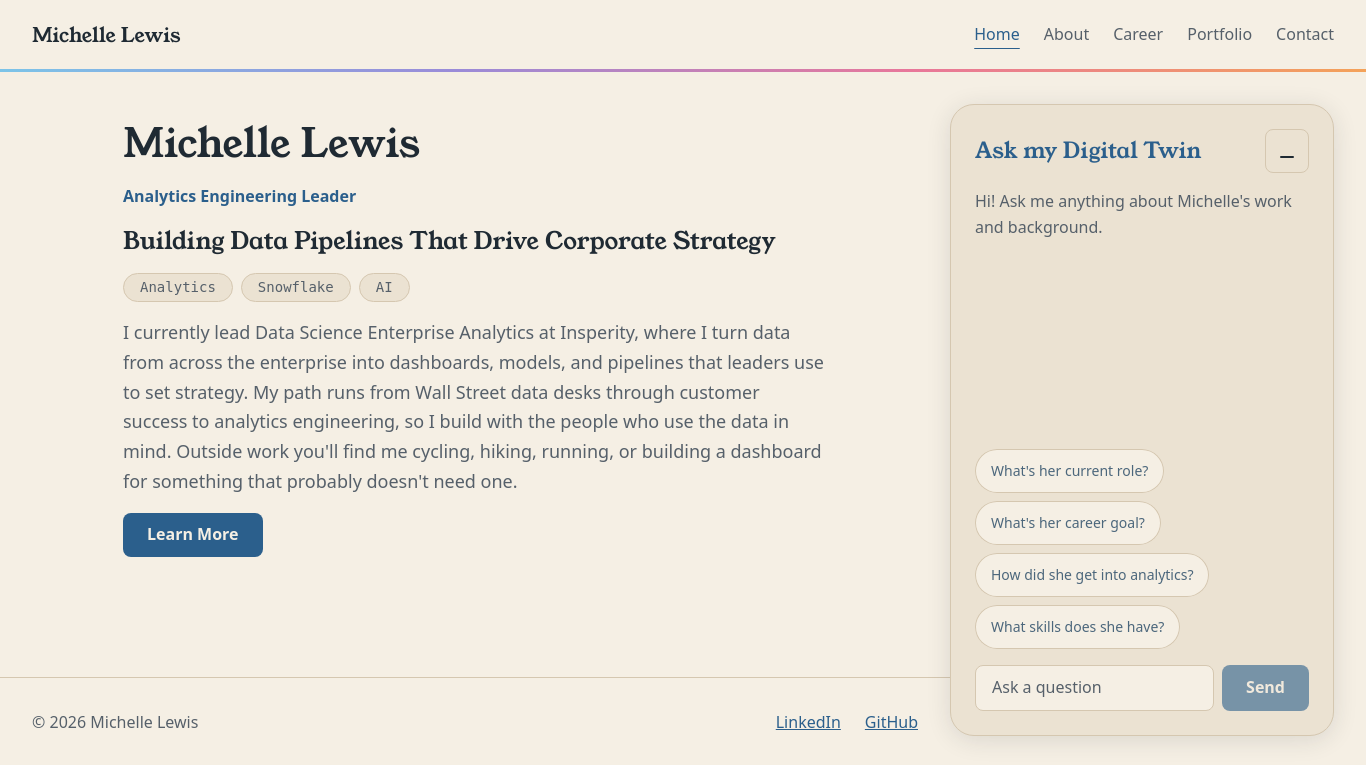
Test case: desktop: the chat column stays the same element across pages
Expected: the heading "Ask my Digital Twin" is shown, [975,138,1202,164]
Step 1. Click the link "Career" → (1138, 34), box [1113,23,1163,45]
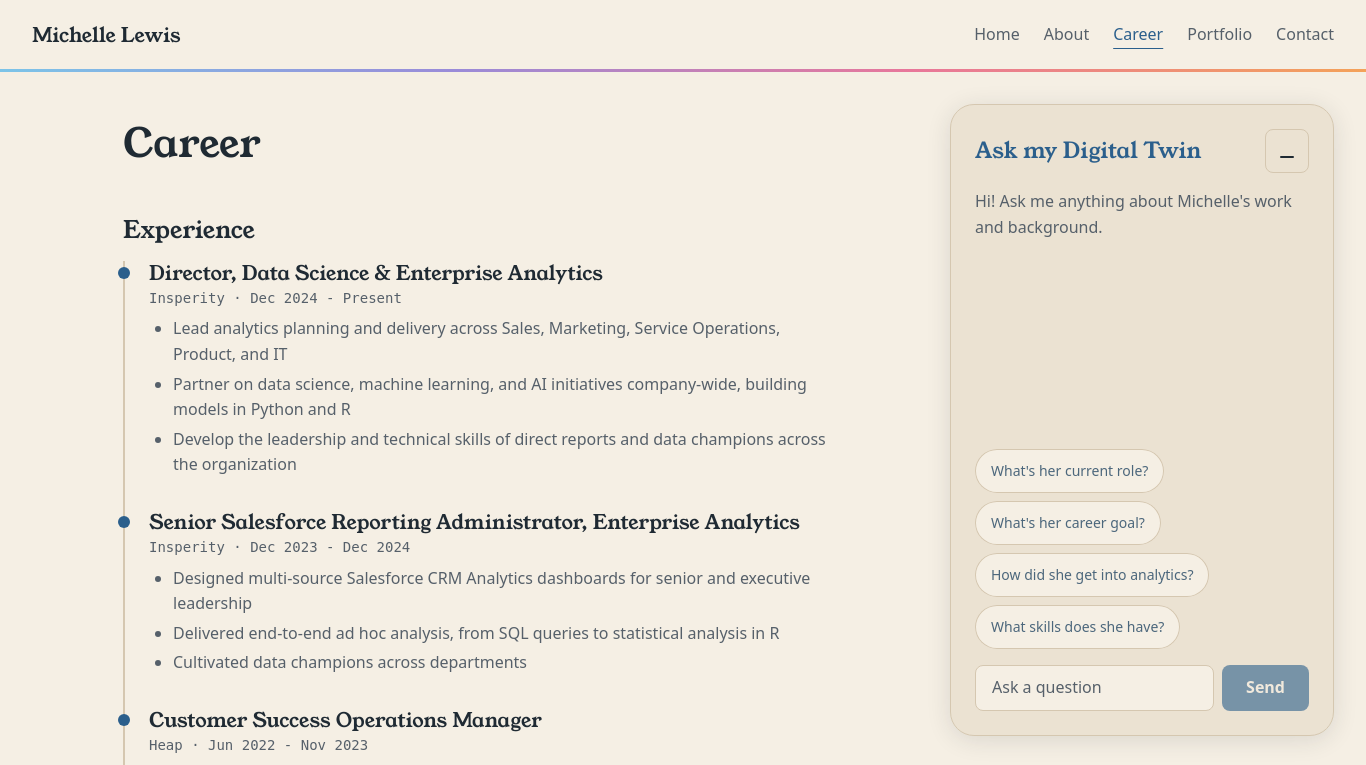
Now the heading "Career" is shown, box [123,115,261,172]
